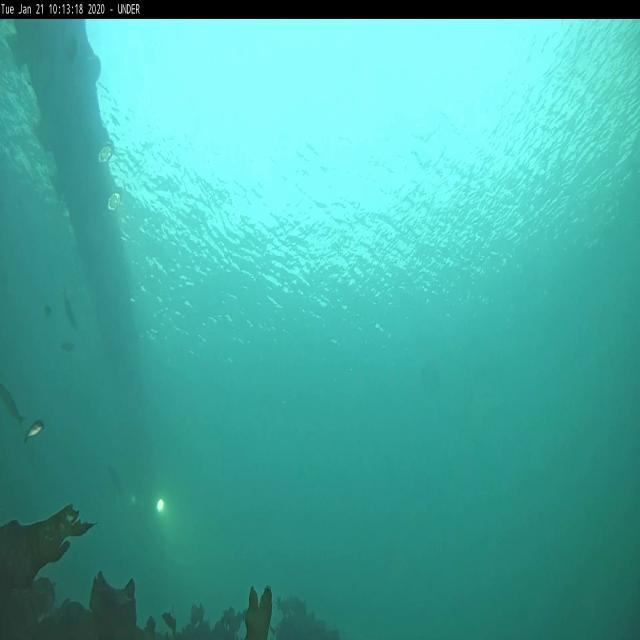fish: (1, 383, 23, 426), (64, 292, 78, 332), (106, 464, 122, 495), (25, 420, 44, 440), (60, 342, 74, 352)
